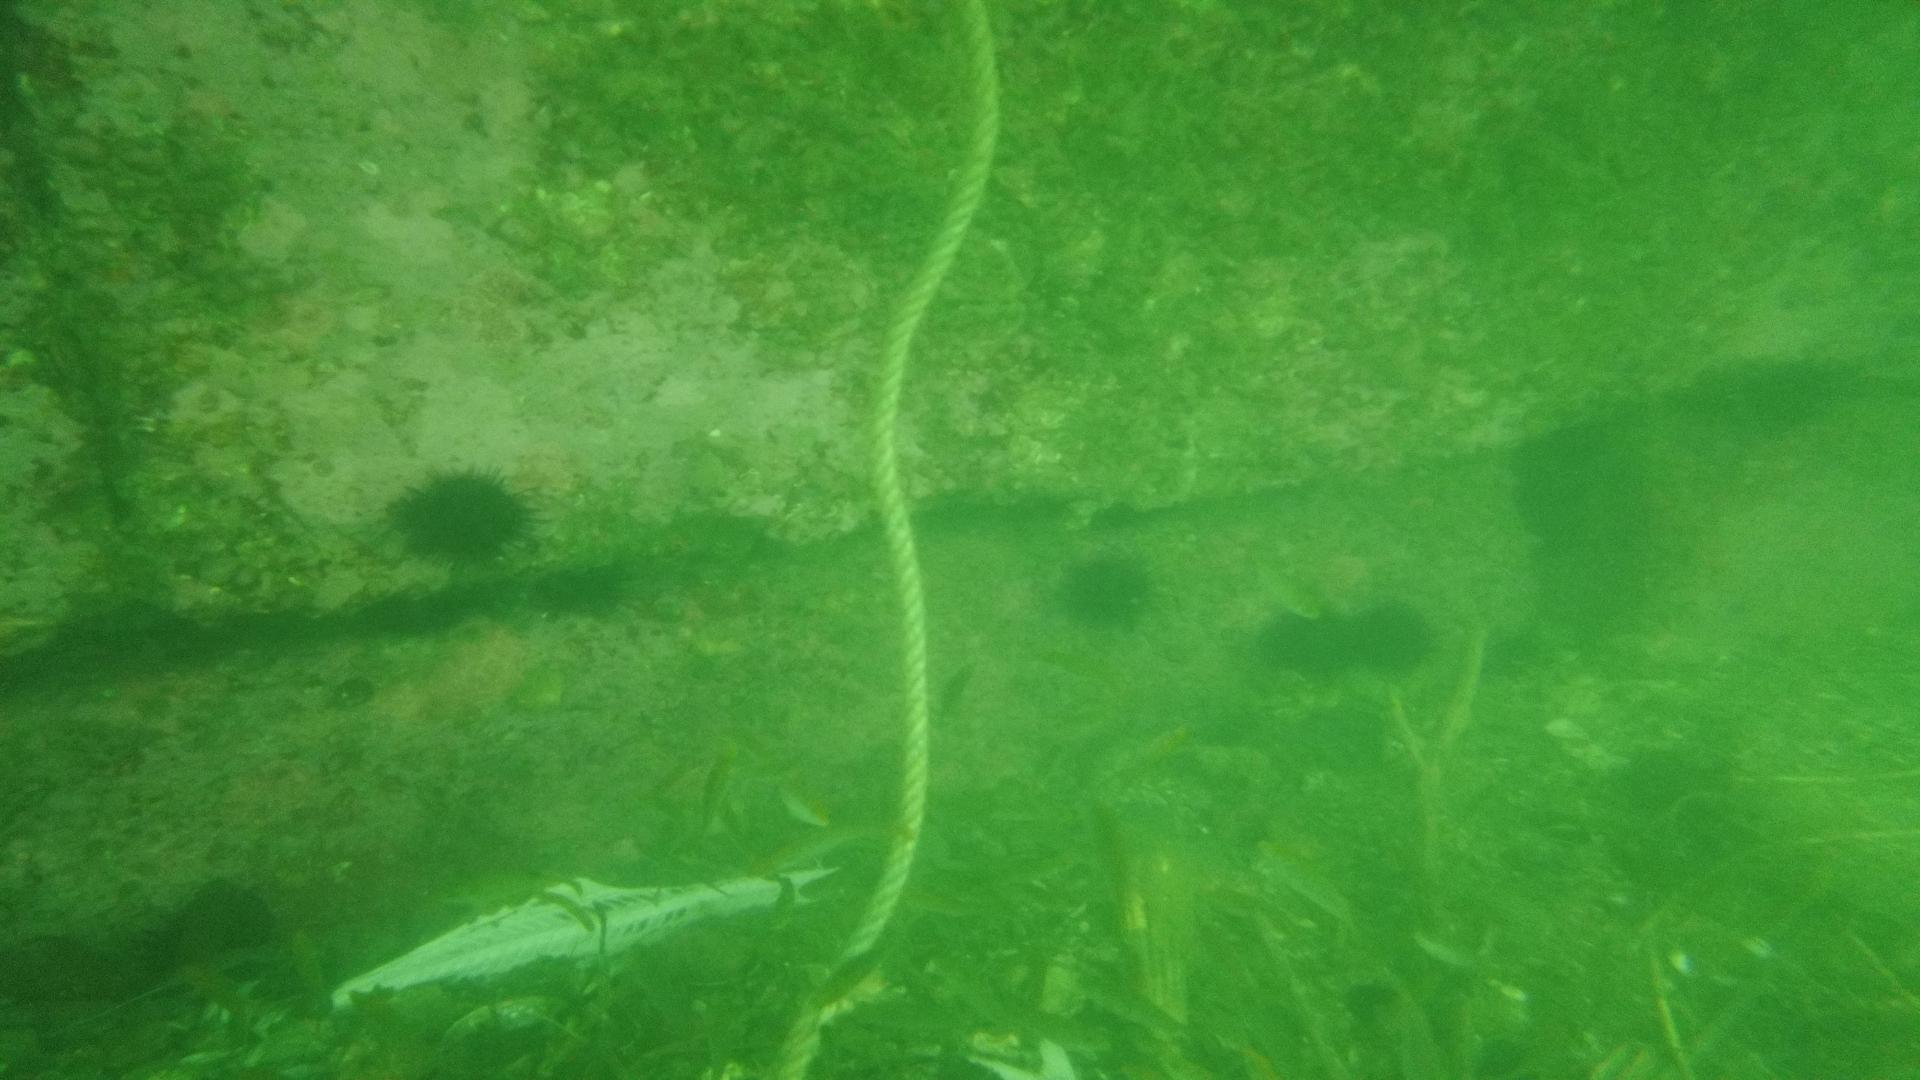rope: (767, 0, 1001, 1080)
